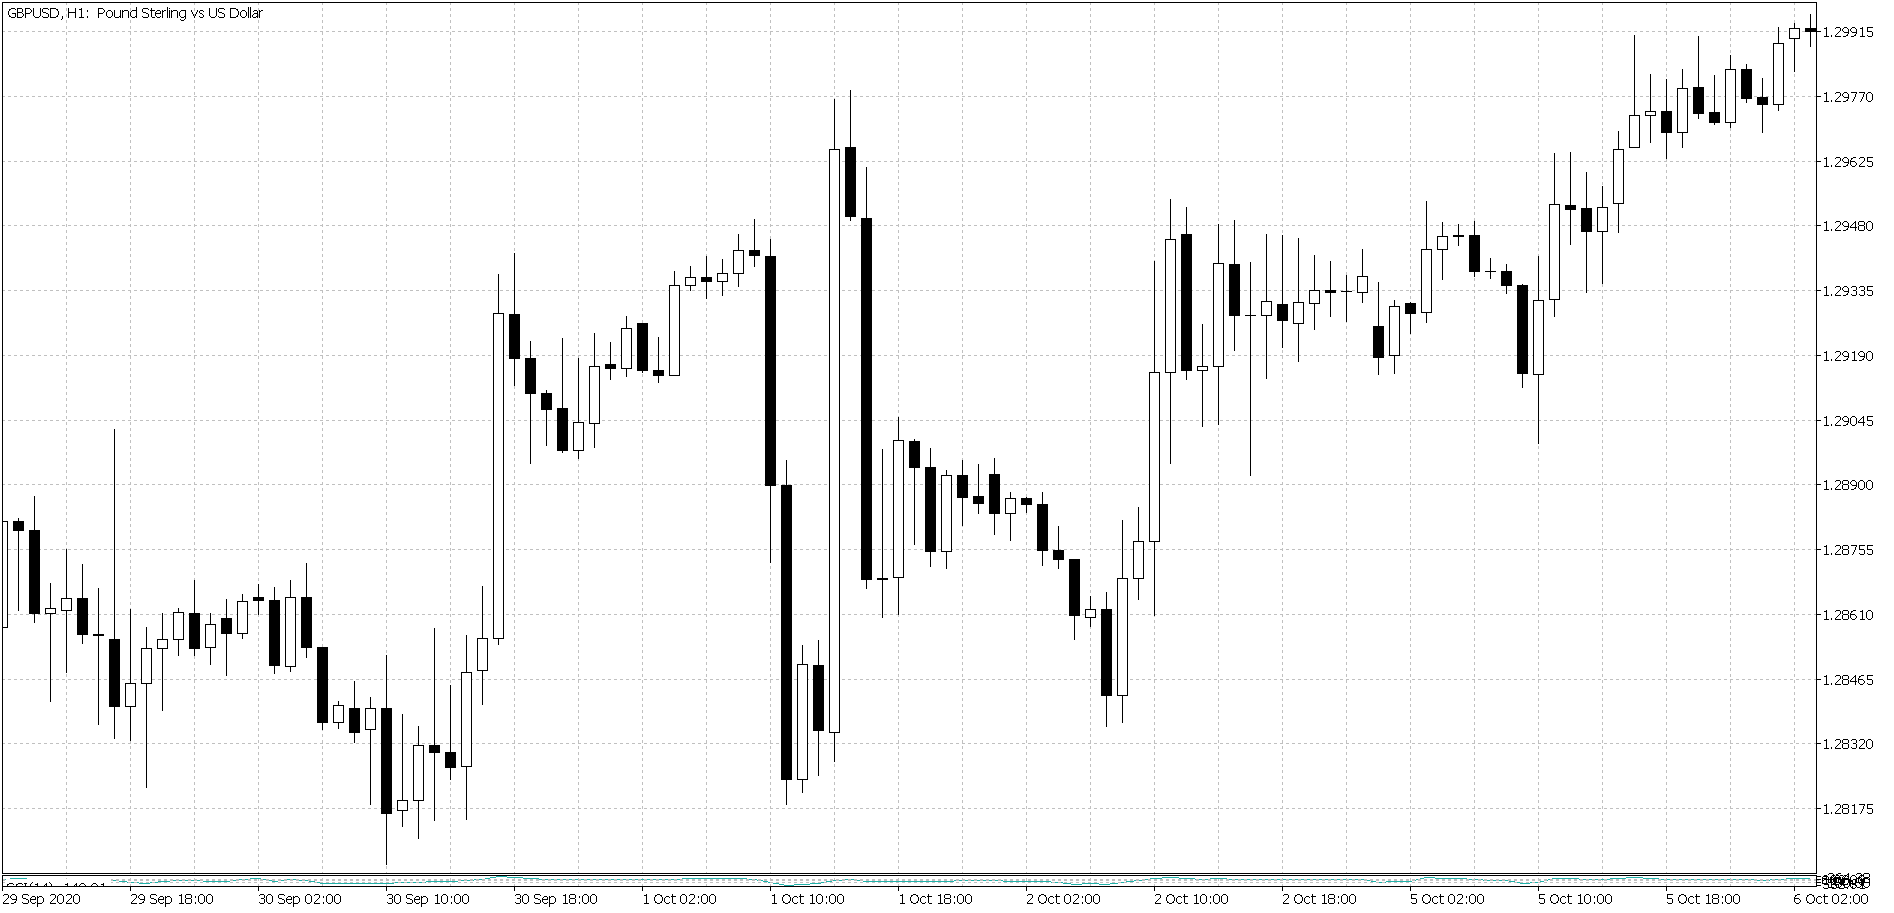3blackcrows: (507, 260, 556, 461)
bullishEngulfing: (1098, 548, 1131, 713)
